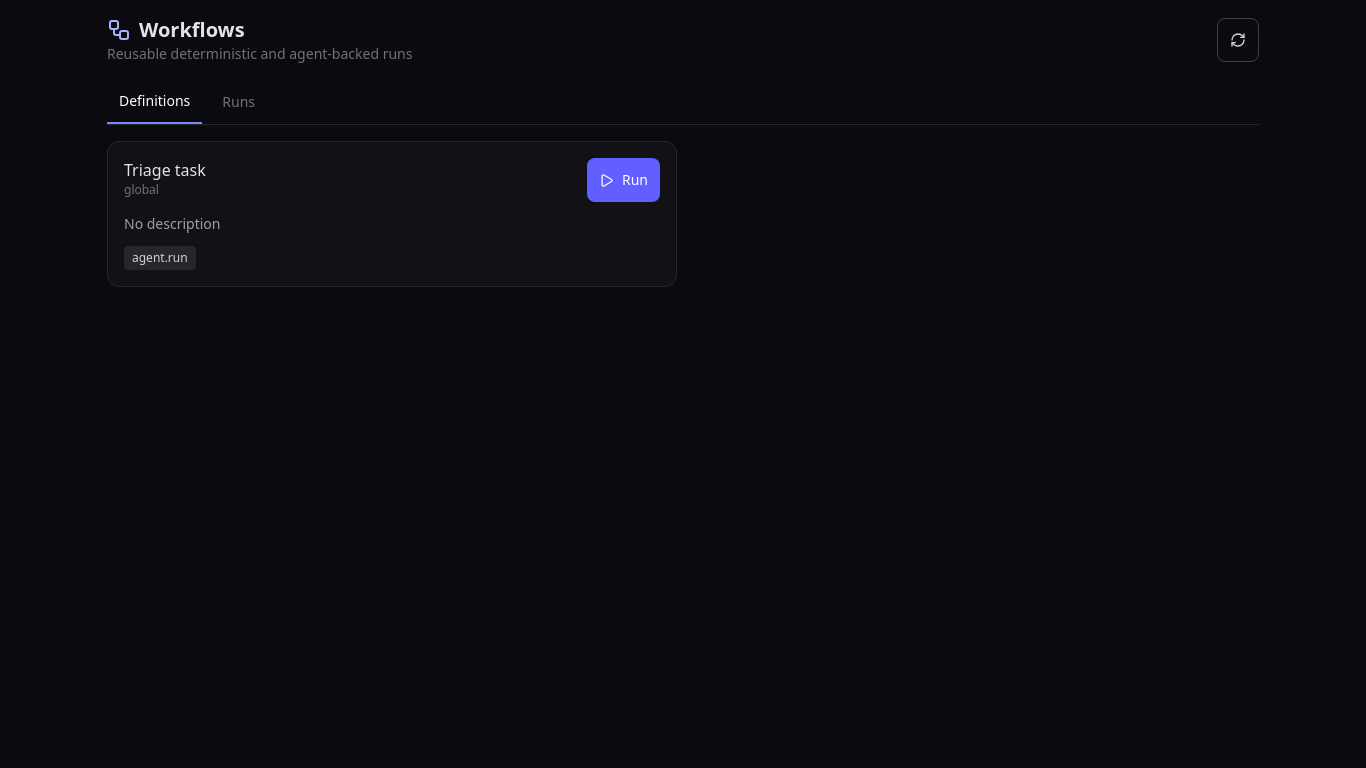
Test: workflow task input › groups active tasks by workspace and hides done and archived tasks by default
The width and height of the screenshot is (1366, 768).
Click the button "Run". click: (624, 180)
box: [587,158,660,202]
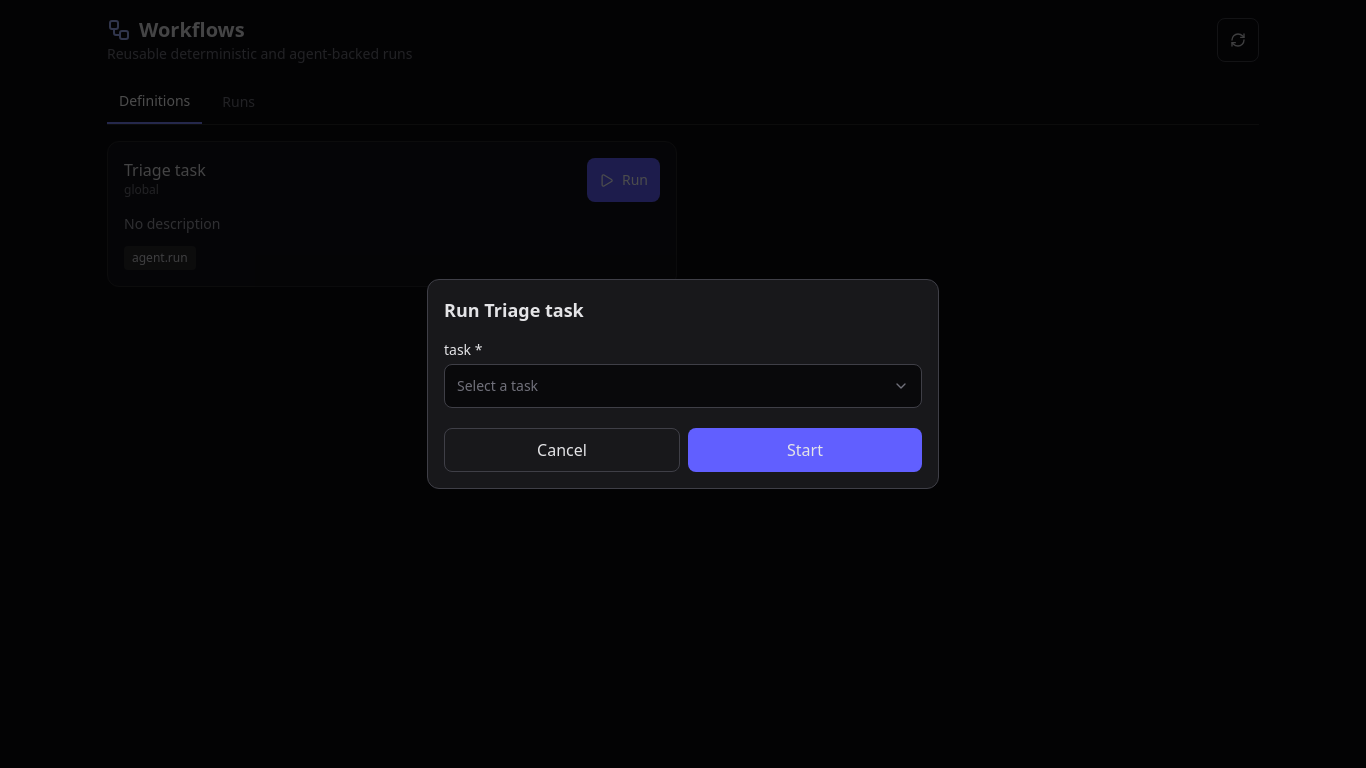
Click the dropdown labelled "Select a task". click: (498, 386)
box: [444,364,922,408]
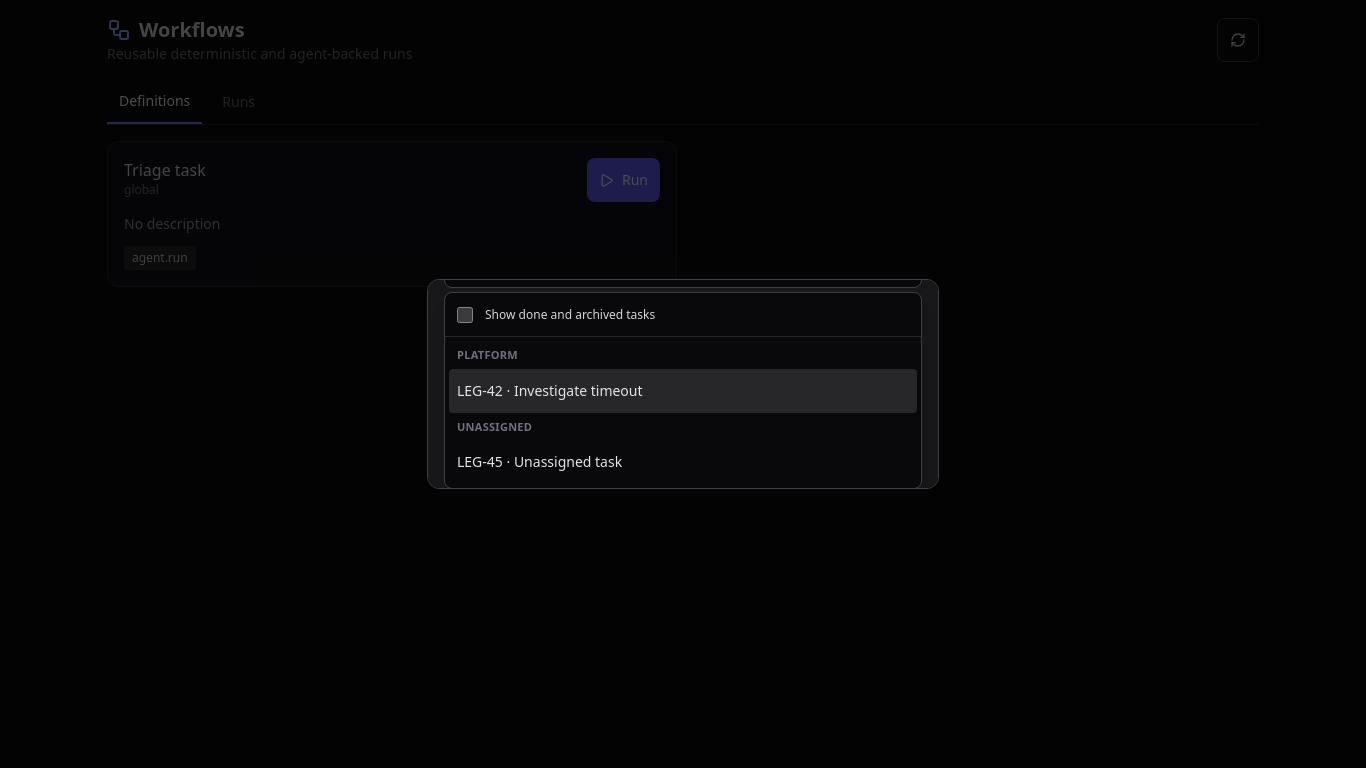
Result: the option "LEG-42 · Investigate timeout" is shown at [449,369,917,413]
Result: the option "LEG-45 · Unassigned task" is shown at [457,452,622,471]
